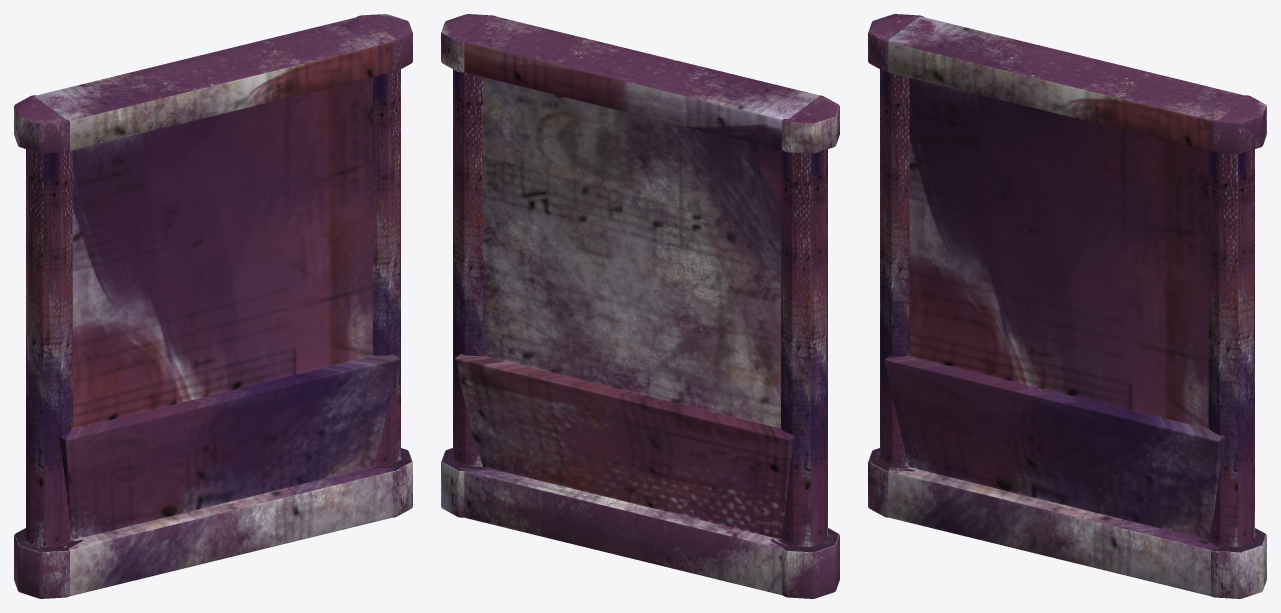
The model's file is MANOR_WALL_2_002.obj.
The picture shows the model from 3 angles, left to right: view 1: azimuth 30°, elevation 25°; view 2: azimuth 150°, elevation 25°; view 3: azimuth 330°, elevation 25°; orthographic projection.
Parts seen in each view (by area): view 1: MANOR_WALL_2_002; view 2: MANOR_WALL_2_002; view 3: MANOR_WALL_2_002.
Boxes of the visible parts, <box> form: MANOR_WALL_2_002: <box>14,14,412,598</box>; MANOR_WALL_2_002: <box>441,14,839,598</box>; MANOR_WALL_2_002: <box>868,14,1266,598</box>.
Size of the model in its own units: 2.57 by 3 by 0.4138.
